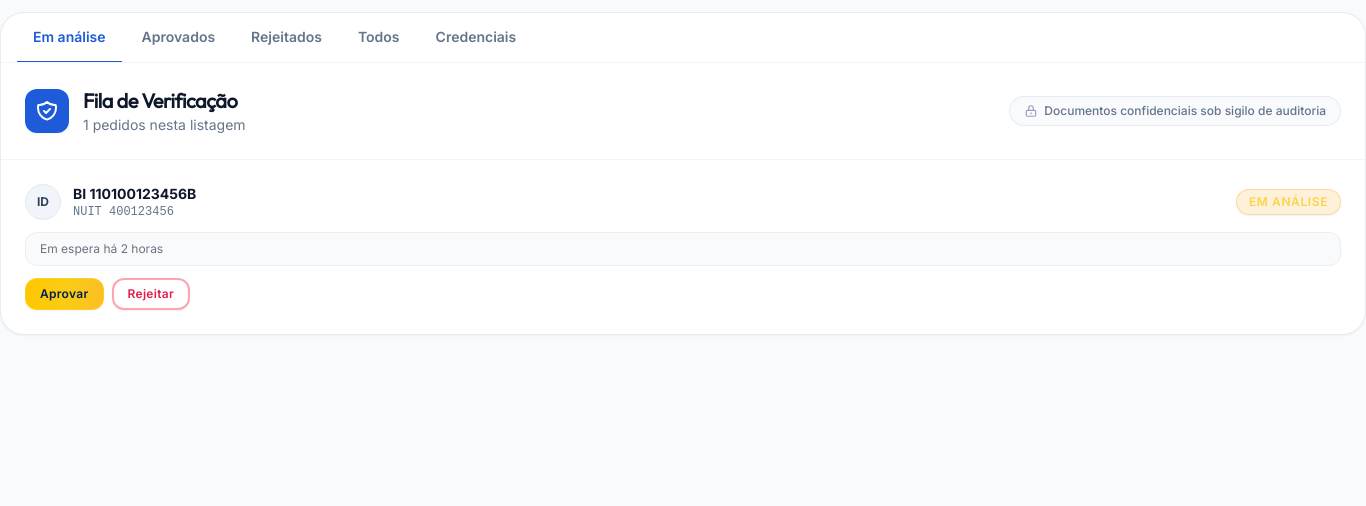
AdminKyc › um motivo frequente preenche a caixa de rejeição
Click the button "Rejeitar".
click(151, 294)  # box [112, 278, 190, 310]
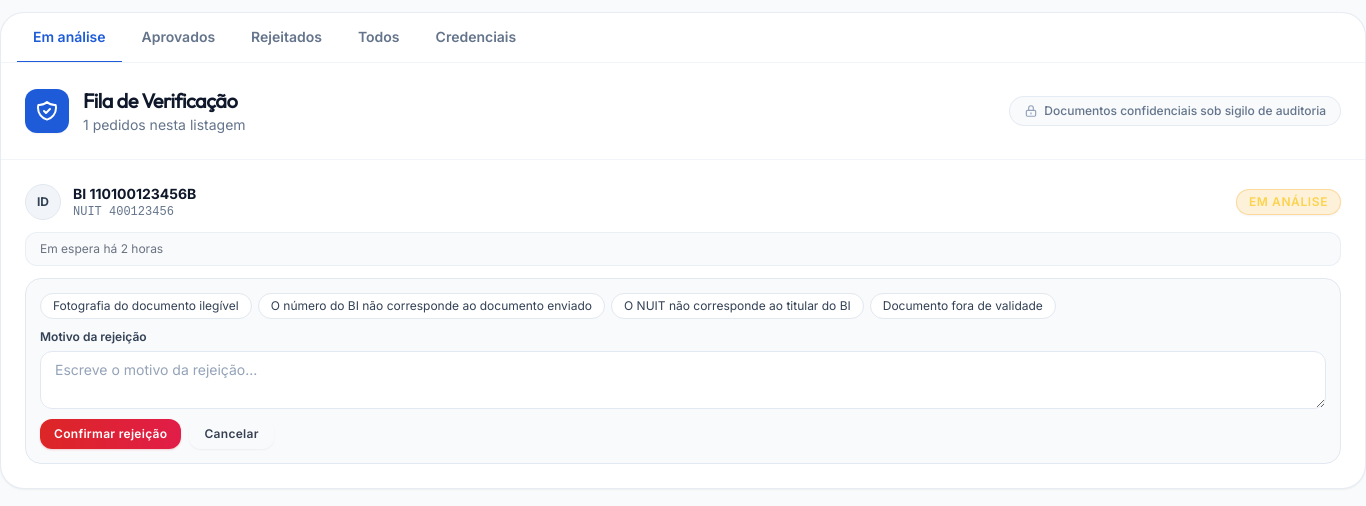
Click the button "Documento fora de validade".
click(963, 306)  # box [870, 293, 1056, 319]
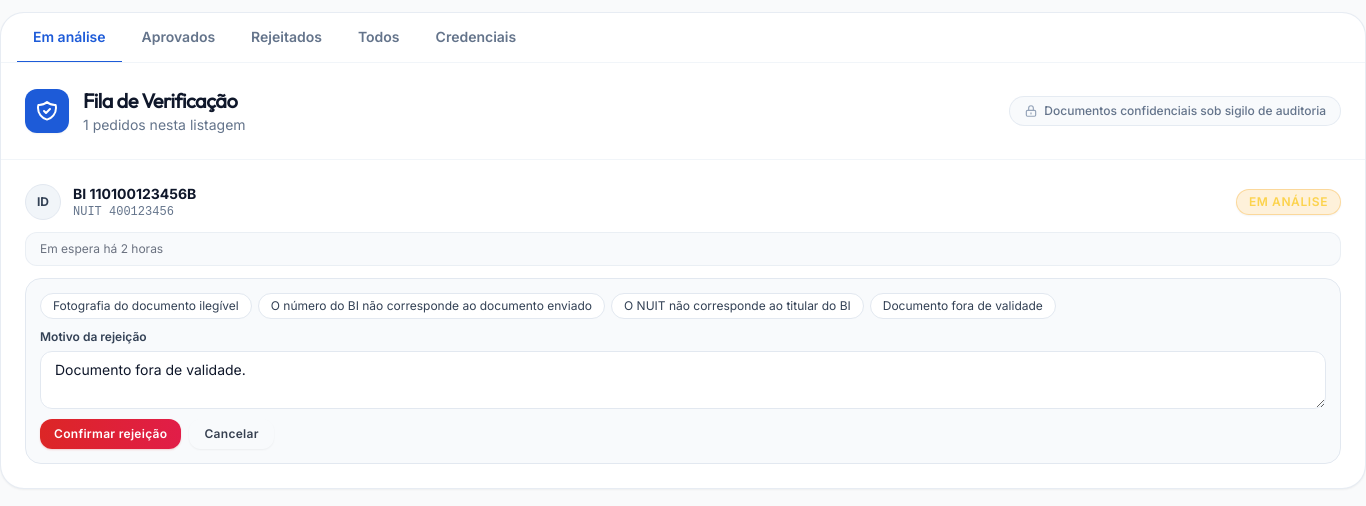
Expected: the text box holds "Documento fora de validade.", [40, 351, 1326, 409]
